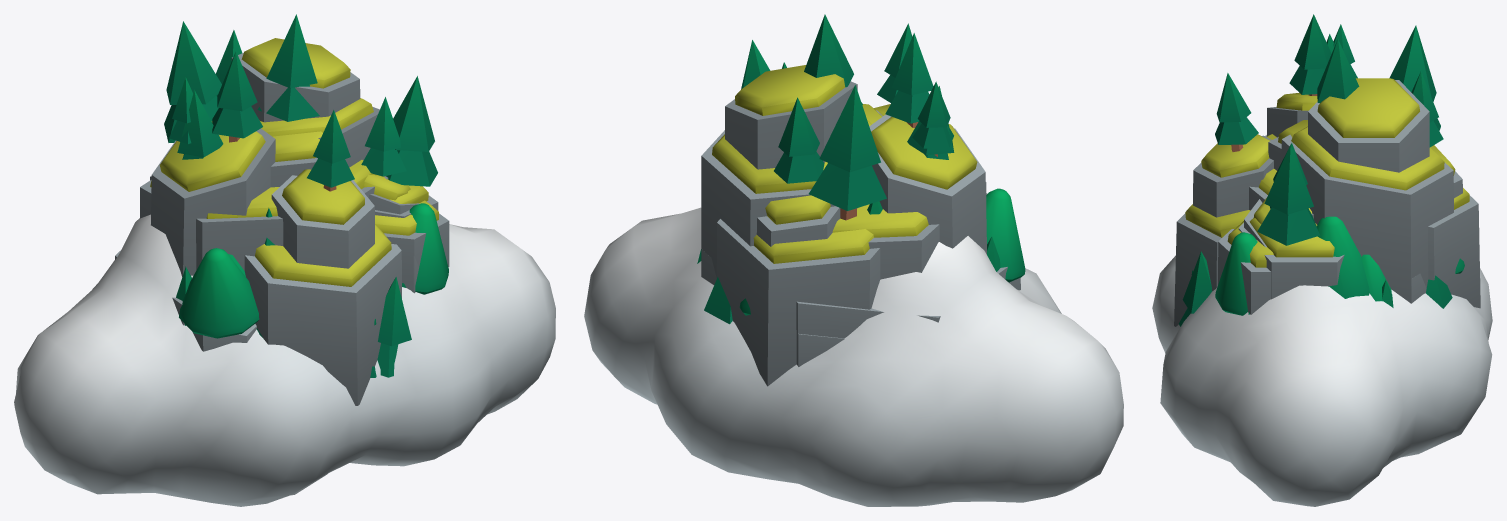
The model's file is nature.glb.
3 renders of one model, left to right at view 1: azimuth 30°, elevation 25°; view 2: azimuth 150°, elevation 25°; view 3: azimuth 270°, elevation 25°, orthographic. The views are drawn at different scales.
Parts seen in each view (by area): view 1: cloud_big, mountain_C_grass_trees, mountain_A_grass_trees, mountain_C, trees_B_large, mountain_B_grass, mountain_B, trees_A_large, mountain_A; view 2: cloud_big, mountain_C_grass_trees, mountain_A_grass_trees, mountain_B_grass, mountain_C, mountain_B, trees_B_large, mountain_A, trees_A_large; view 3: cloud_big, mountain_B_grass, mountain_B, mountain_C_grass_trees, mountain_A_grass_trees, mountain_C, trees_B_large, trees_B_medium, trees_A_large, mountain_A.
Boxes of the visible parts, x1,y1,x2,y2 form: cloud_big: [14, 214, 555, 506]; mountain_C_grass_trees: [152, 30, 419, 378]; mountain_A_grass_trees: [150, 14, 448, 291]; mountain_C: [150, 139, 418, 405]; trees_B_large: [179, 203, 448, 338]; mountain_B_grass: [241, 38, 428, 217]; mountain_B: [115, 52, 438, 325]; trees_A_large: [176, 266, 411, 377]; mountain_A: [140, 160, 449, 270]; cloud_big: [584, 207, 1123, 506]; mountain_C_grass_trees: [728, 23, 987, 385]; mountain_A_grass_trees: [701, 14, 954, 366]; mountain_B_grass: [701, 65, 883, 365]; mountain_C: [716, 163, 1020, 386]; mountain_B: [701, 81, 1007, 366]; trees_B_large: [986, 188, 1025, 282]; mountain_A: [798, 182, 986, 366]; trees_A_large: [697, 236, 1000, 324]; cloud_big: [1152, 255, 1492, 506]; mountain_B_grass: [1238, 78, 1453, 303]; mountain_B: [1264, 80, 1429, 303]; mountain_C_grass_trees: [1175, 14, 1478, 294]; mountain_A_grass_trees: [1218, 25, 1440, 303]; mountain_C: [1174, 108, 1480, 326]; trees_B_large: [1191, 232, 1391, 315]; trees_B_medium: [1317, 216, 1464, 298]; trees_A_large: [1179, 251, 1452, 326]; mountain_A: [1240, 135, 1313, 314].
Bounding box in the file's own units: 3.61 × 3.08 × 2.24.
1 material, 1 textured.
